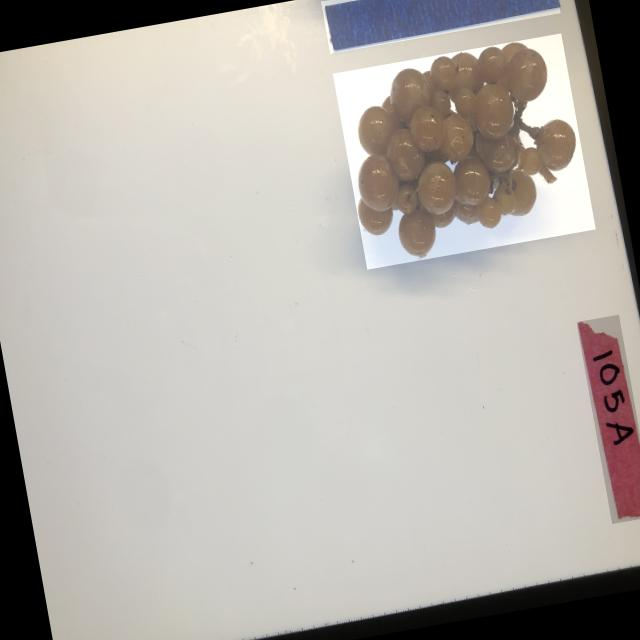grape_cluster: (332, 33, 594, 269)
index: (575, 314, 640, 523)
measure_label: (319, 0, 559, 53)
